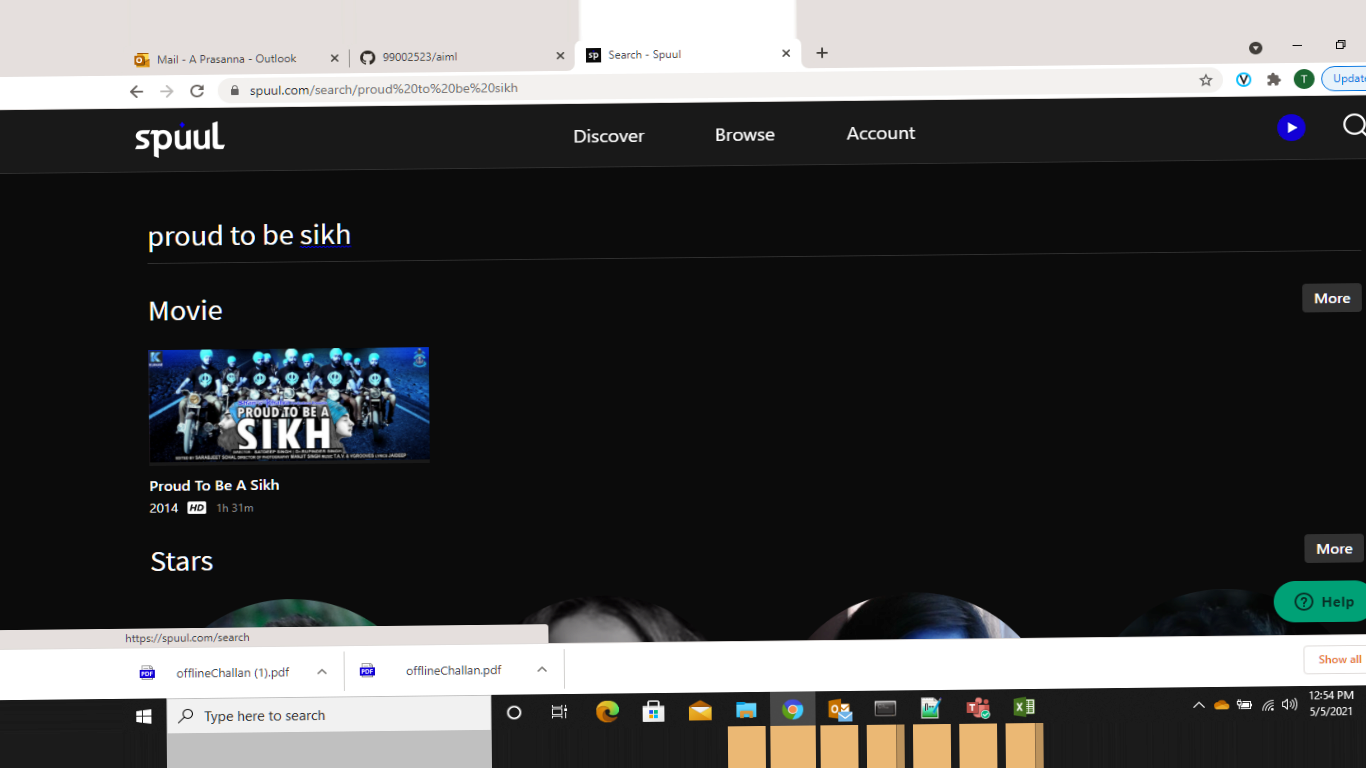myaccountbutton: (837, 112, 941, 155)
resultsfound: (148, 288, 249, 333)
searchicon: (1337, 109, 1366, 145)
searchtextbox: (140, 189, 700, 285)
